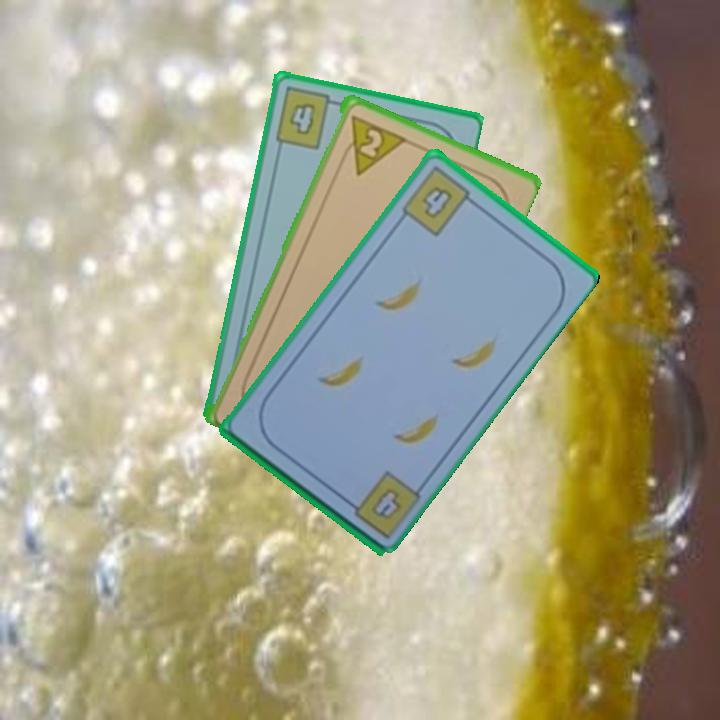2p: (336, 111, 407, 178)
4b: (398, 162, 480, 239), (271, 83, 342, 152), (367, 483, 405, 522)
